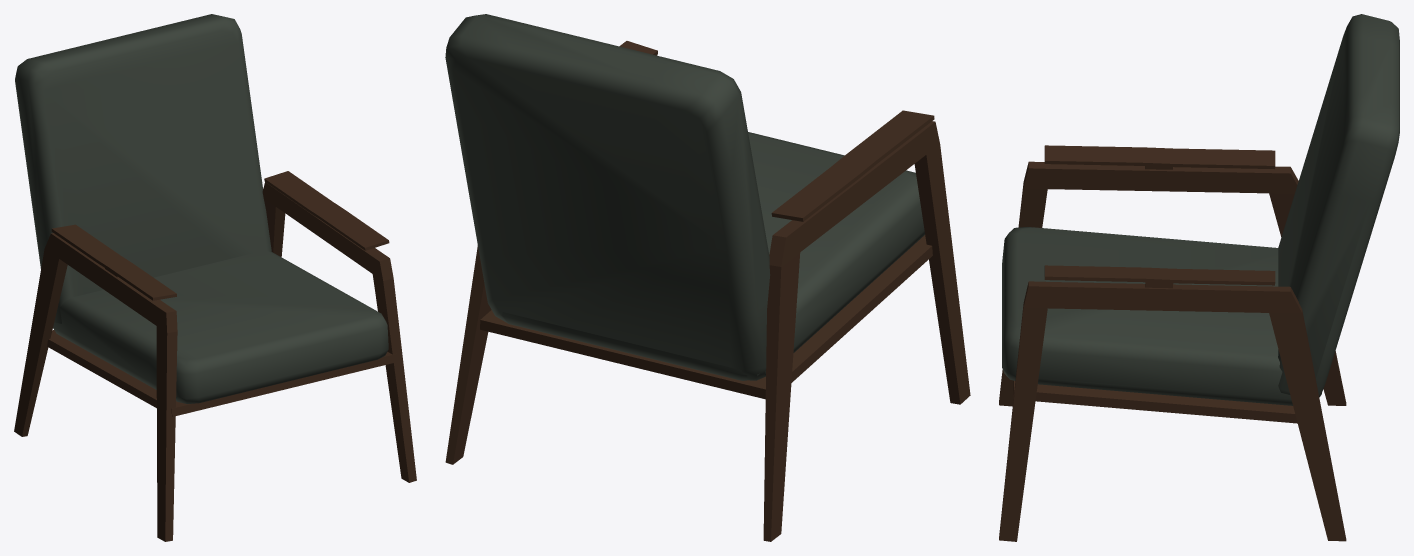
Rendered from Chair.fbx.
The picture shows the model from 3 angles, left to right: view 1: azimuth 30°, elevation 25°; view 2: azimuth 150°, elevation 25°; view 3: azimuth 270°, elevation 25°; orthographic projection. The views are drawn at different scales.
Parts seen in each view (by area): view 1: Stull; view 2: Stull; view 3: Stull.
Part boxes in pixels (bbox=[...]): Stull: bbox=[14, 14, 416, 541]; Stull: bbox=[445, 14, 970, 541]; Stull: bbox=[999, 14, 1399, 541].
Bounding box in the file's own units: 237 × 320 × 286.
